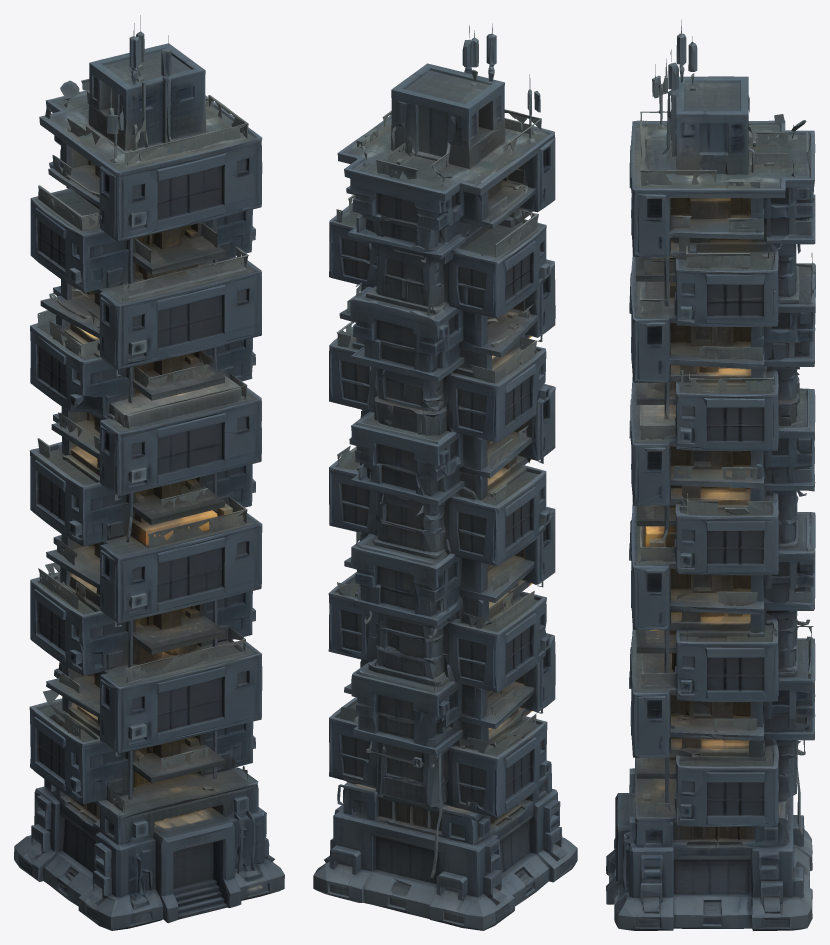
Rendered from source.glb.
3 views of the same model, side by side, from view 1: azimuth 30°, elevation 25°; view 2: azimuth 150°, elevation 25°; view 3: azimuth 270°, elevation 25° (orthographic). The views are drawn at different scales.
Parts seen in each view (by area): view 1: model; view 2: model; view 3: model.
Boxes of the visible parts, box(x1,y1,x2,y2) form: model: box(14, 15, 284, 930); model: box(313, 23, 577, 930); model: box(606, 20, 815, 930).
Bounding box in the file's own units: 0.4121 × 1.89 × 0.4188.
1 material, 1 textured.
